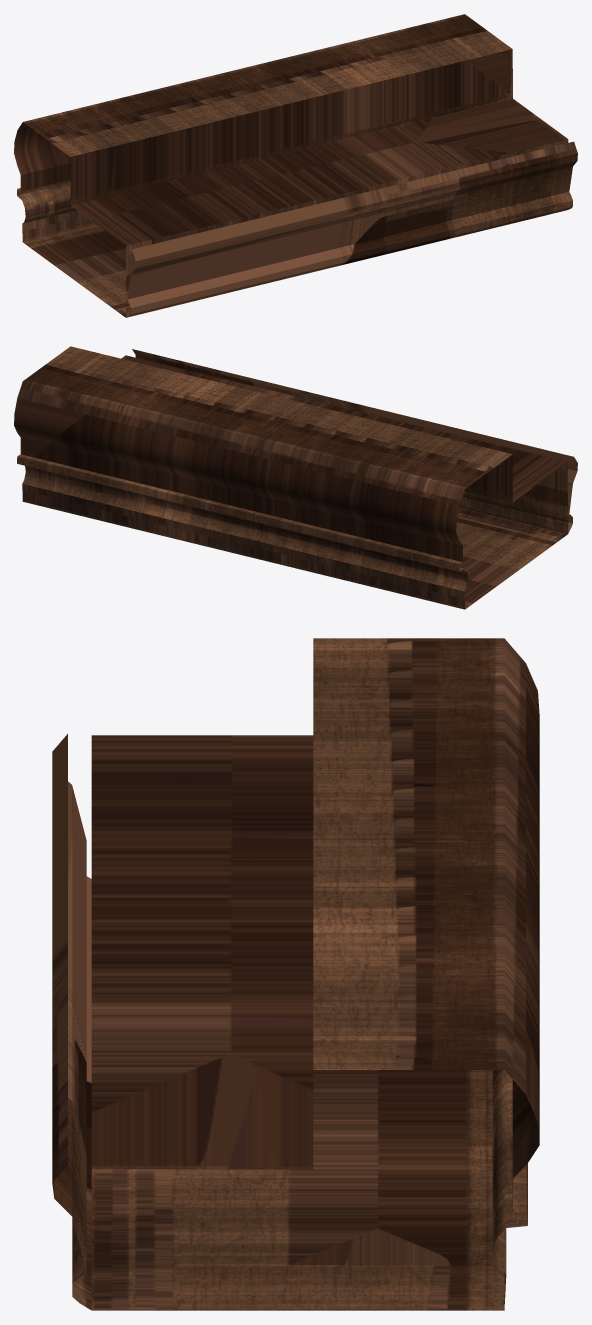
The model's file is Mod_Rambarde_Moulure_C_low.fbx.
3 views of the same model, one above another, from view 1: azimuth 30°, elevation 25°; view 2: azimuth 150°, elevation 25°; view 3: azimuth 270°, elevation 25° (orthographic). The views are drawn at different scales.
Parts seen in each view (by area): view 1: Mod_Rambarde_Moulure_C_low; view 2: Mod_Rambarde_Moulure_C_low; view 3: Mod_Rambarde_Moulure_C_low.
Part boxes in pixels (x1,y1,x2,y2): Mod_Rambarde_Moulure_C_low: (14,14,577,317); Mod_Rambarde_Moulure_C_low: (14,346,577,609); Mod_Rambarde_Moulure_C_low: (52,638,539,1310).
Bounding box in the file's own units: 100 × 26.02 × 47.73.
Materials: 1 (1 with a texture image).
